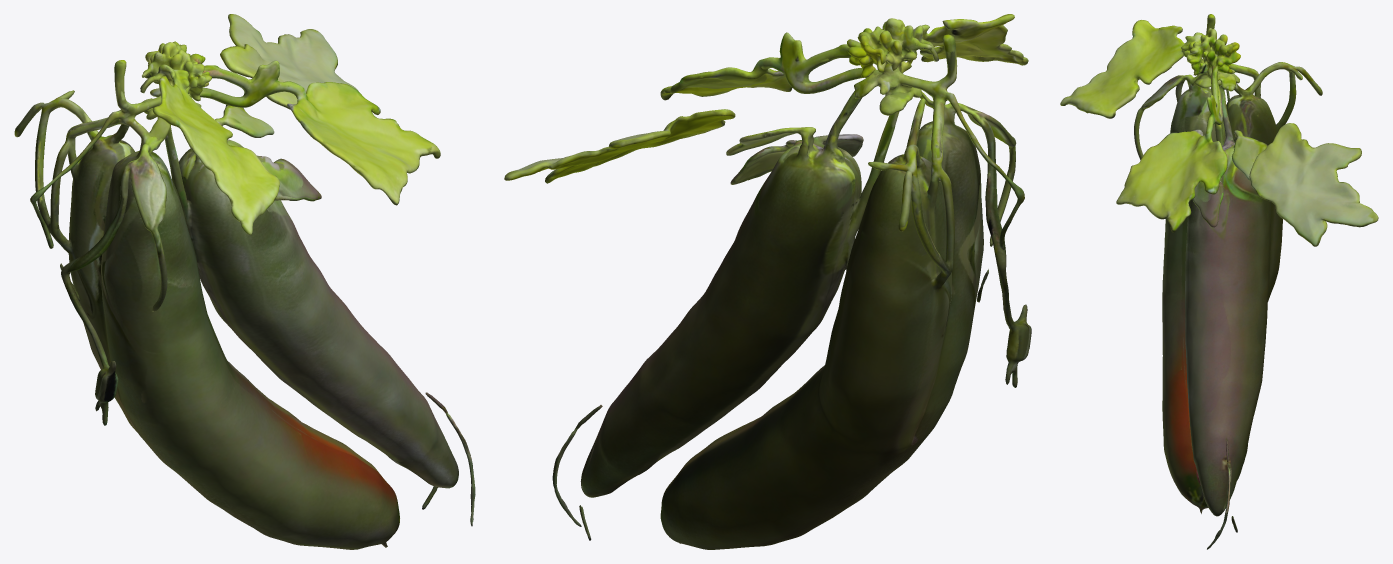
File: climber0075.gltf
3 views of the same model, side by side, from view 1: azimuth 30°, elevation 25°; view 2: azimuth 150°, elevation 25°; view 3: azimuth 270°, elevation 25° (orthographic). The views are drawn at different scales.
Visible parts, largest first — view 1: Mesh_0; view 2: Mesh_0; view 3: Mesh_0.
Part boxes in pixels (x1,y1,x2,y2): Mesh_0: [14, 14, 475, 549]; Mesh_0: [504, 14, 1031, 549]; Mesh_0: [1060, 14, 1378, 549].
Size of the model in its own units: 1.67 by 1.99 by 1.4.
Materials: 1 (1 with a texture image).
